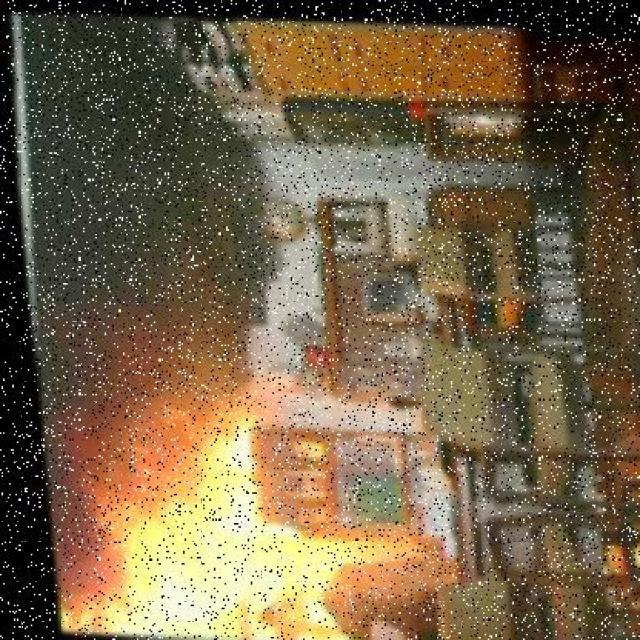fire: (105, 364, 343, 633), (64, 404, 313, 640), (49, 399, 50, 400)
